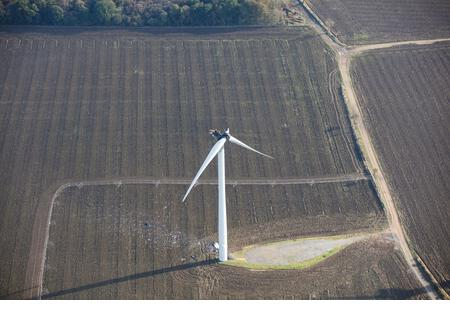faulty: (174, 123, 276, 266)
